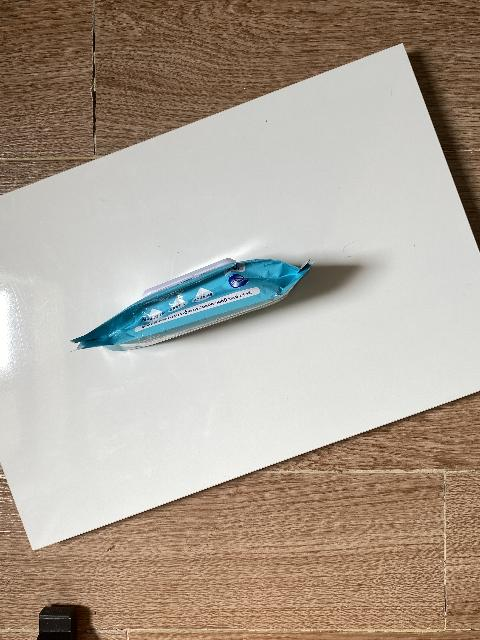Let-green_alcohol_wipes: (70, 258, 316, 352)
